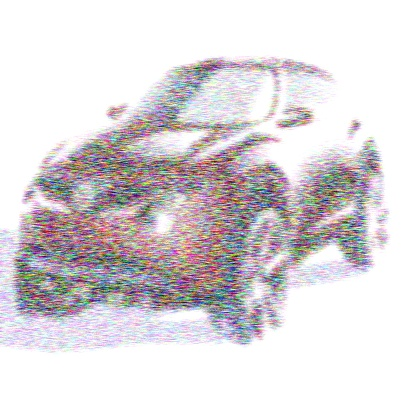Vehicle: (13, 54, 392, 355)
